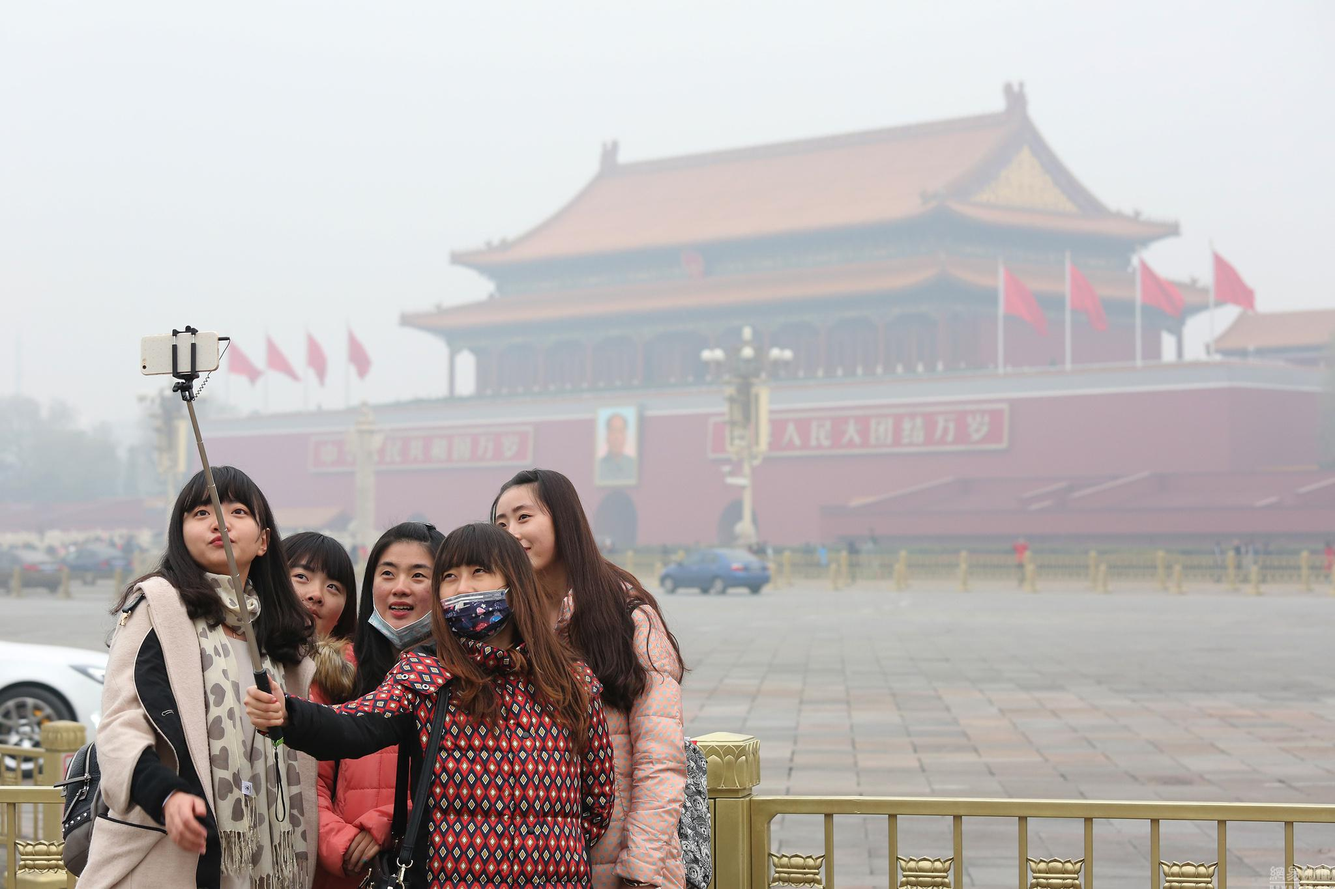NONE: (282, 559, 347, 637), (188, 498, 257, 567)
WRONG: (374, 559, 457, 642), (430, 559, 506, 635), (497, 502, 550, 569)
